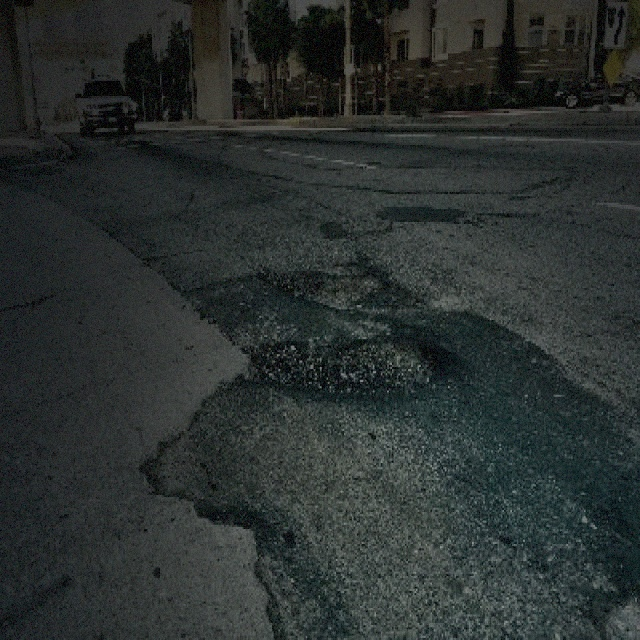pothole: (240, 331, 443, 403), (251, 262, 386, 310)
